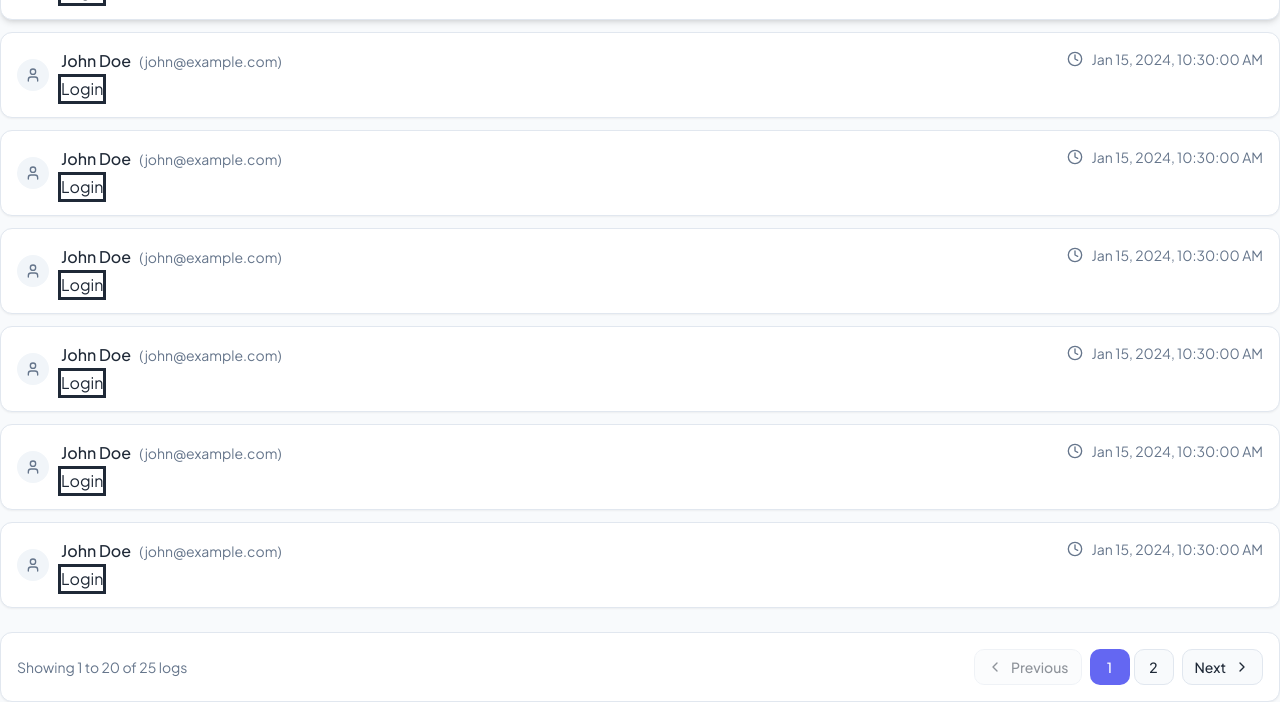
Scenario: ActivityLog Component › Pagination › should navigate to next page
(page scrolled)
Click the button "Next" at [1222, 667], box [1182, 649, 1263, 685]
(page scrolled)
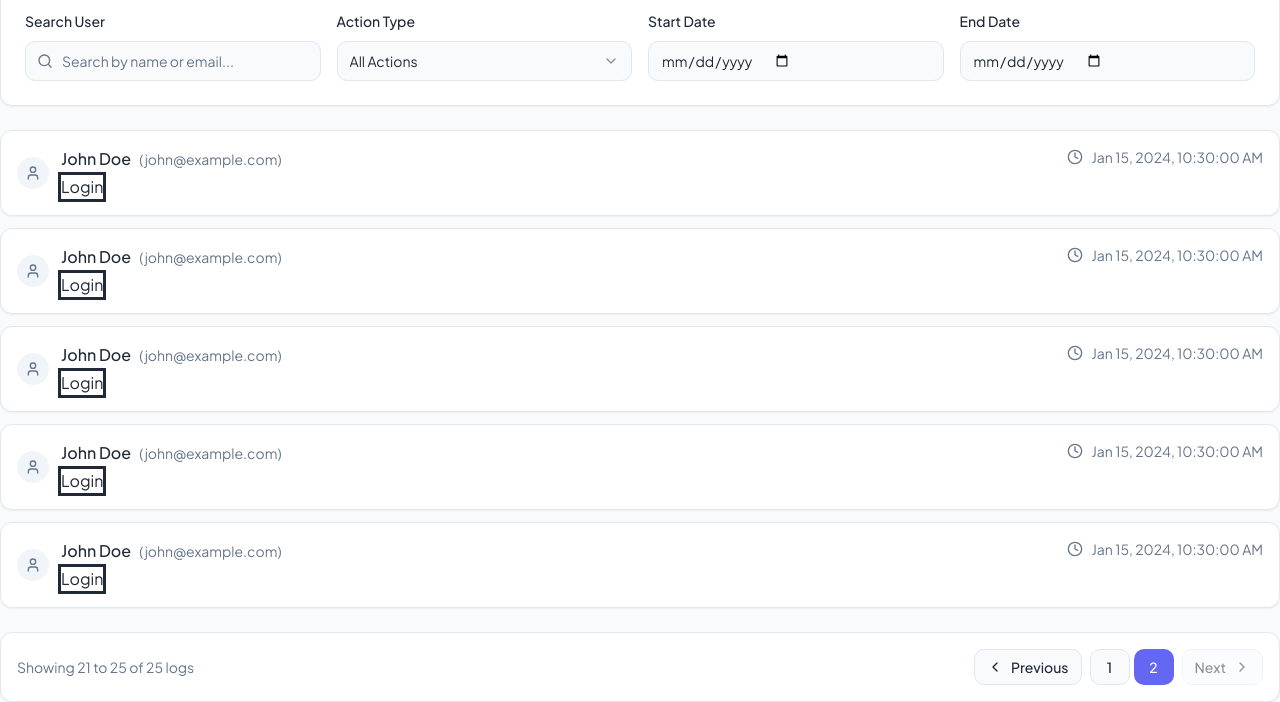
Check: the text "Showing 21 to 25 of 25 logs" is shown, box [17, 657, 194, 677]
